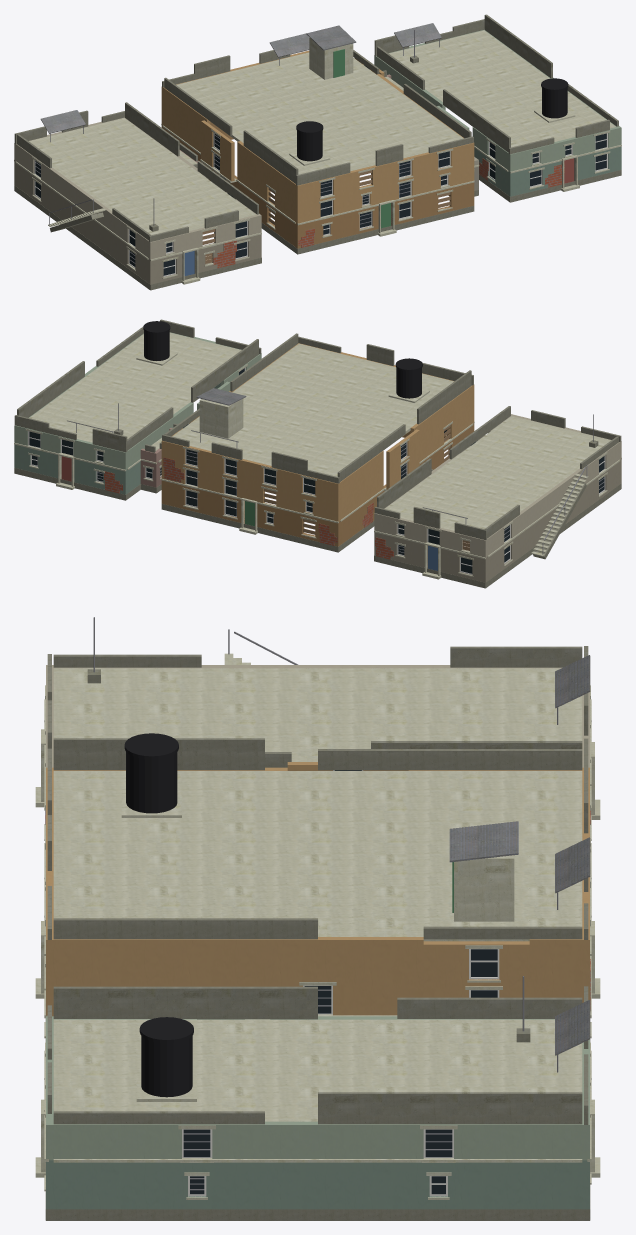
The model's file is lajes_piloto.glb.
3 renders of one model, top to bottom at view 1: azimuth 30°, elevation 25°; view 2: azimuth 150°, elevation 25°; view 3: azimuth 270°, elevation 25°, orthographic. The views are drawn at different scales.
Visible parts, largest first — view 1: LAJES_SHELL; view 2: LAJES_SHELL; view 3: LAJES_SHELL.
Part boxes in pixels (box(x1,y1,x2,y2)): LAJES_SHELL: box(14, 14, 621, 290); LAJES_SHELL: box(14, 319, 621, 588); LAJES_SHELL: box(35, 617, 600, 1220).
Size of the model in its own units: 36.96 by 7.81 by 18.68.
25 materials, 16 textured.
